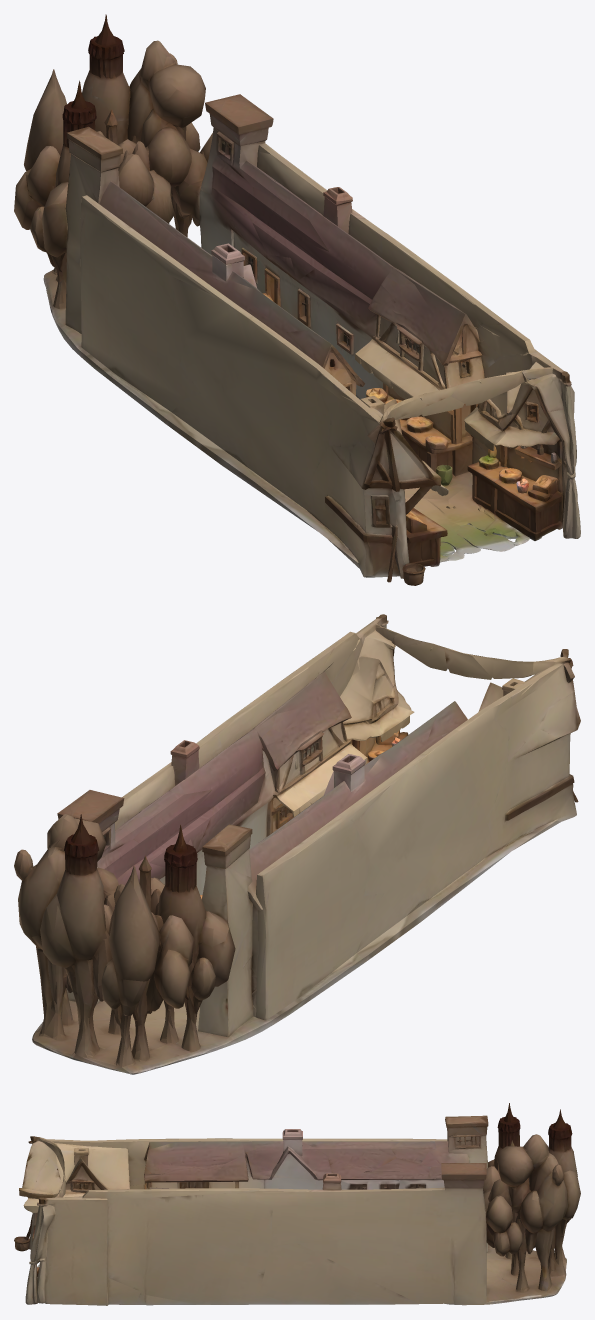
3 views of the same model, one above another, from view 1: azimuth 30°, elevation 25°; view 2: azimuth 150°, elevation 25°; view 3: azimuth 270°, elevation 25° (orthographic). The views are drawn at different scales.
Visible parts, largest first — view 1: model; view 2: model; view 3: model.
Boxes of the visible parts, x1,y1,x2,y2 form: model: [14, 14, 580, 585]; model: [14, 614, 580, 1074]; model: [14, 1103, 580, 1305].
Size of the model in its own units: 0.5595 by 0.6341 by 1.9.
Materials: 1 (1 with a texture image).
